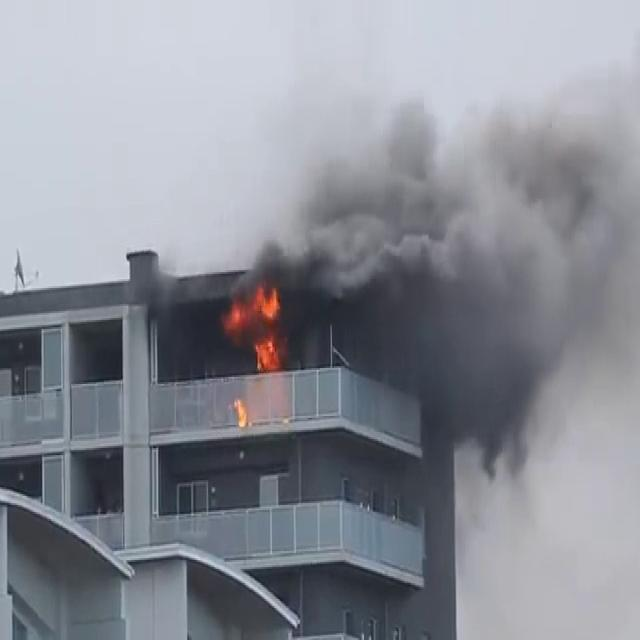Fire: (220, 278, 290, 372)
Smoke: (245, 59, 639, 409)
